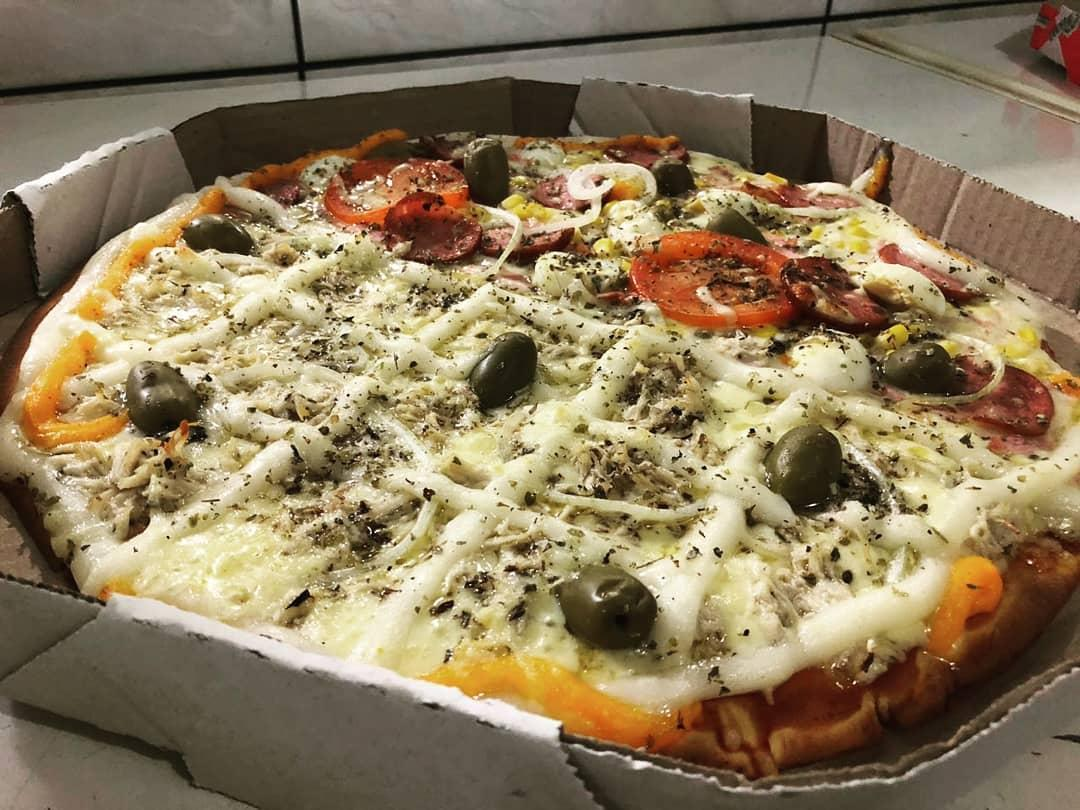Olives: (561, 558, 657, 649), (763, 422, 843, 506), (467, 331, 537, 407), (126, 362, 201, 431), (464, 134, 513, 207), (884, 344, 954, 391), (185, 218, 256, 257), (651, 157, 694, 196)
Pizza: (0, 135, 1080, 774)
Tomatoes: (631, 231, 796, 327), (325, 157, 469, 224), (955, 355, 1055, 437), (782, 256, 887, 331), (384, 193, 481, 264), (880, 244, 983, 300), (741, 184, 862, 210), (530, 173, 611, 209), (481, 223, 574, 254)
